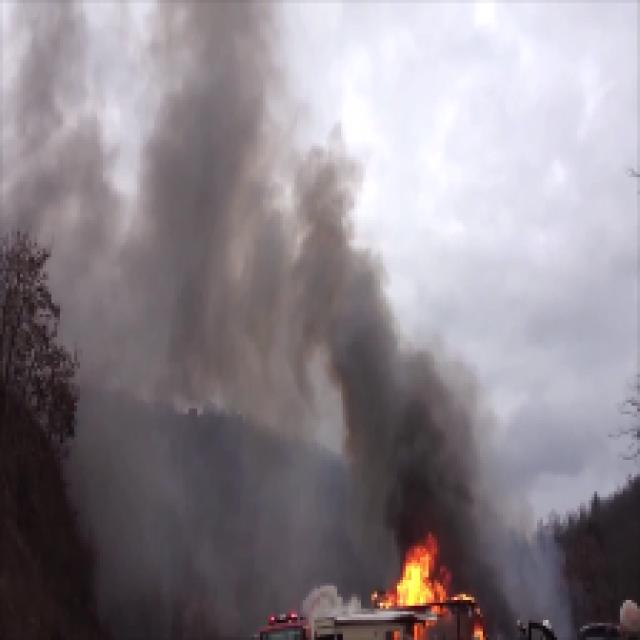fire: (387, 540, 435, 602)
smoke: (156, 104, 252, 358), (364, 366, 462, 529), (265, 208, 365, 362)
